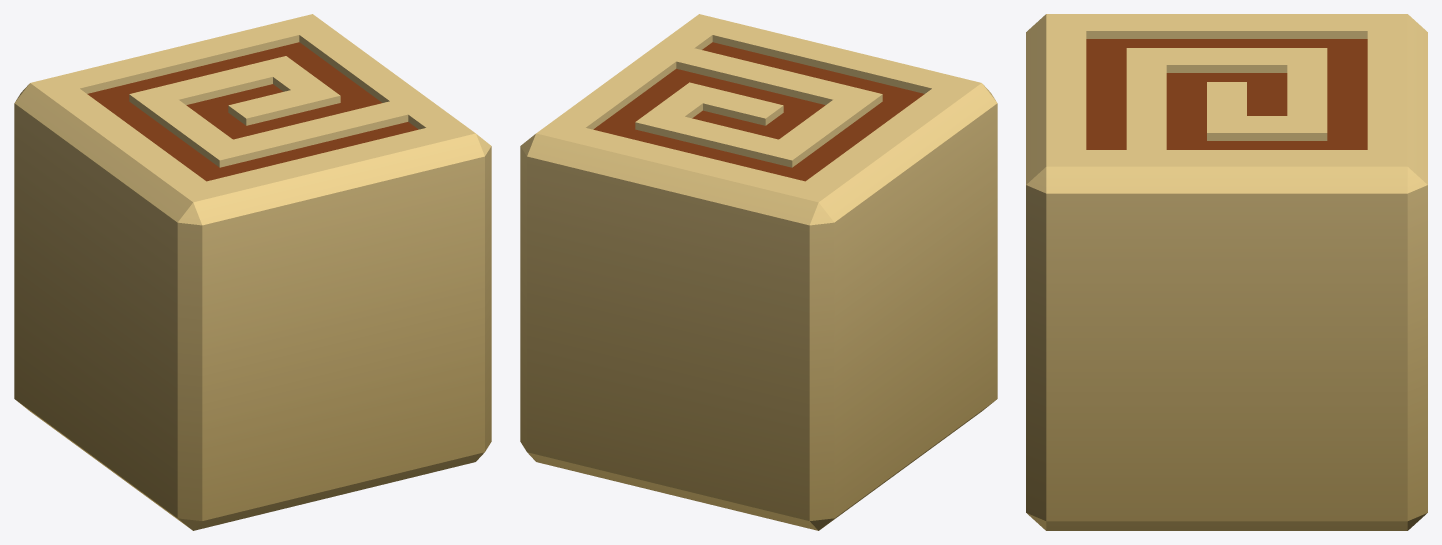
The model's file is Tile_Snake_Tail_White.fbx.
The picture shows the model from 3 angles, left to right: view 1: azimuth 30°, elevation 25°; view 2: azimuth 150°, elevation 25°; view 3: azimuth 270°, elevation 25°; orthographic projection. The views are drawn at different scales.
Parts seen in each view (by area): view 1: Tile Buntut Putih; view 2: Tile Buntut Putih; view 3: Tile Buntut Putih.
Boxes of the visible parts, x1,y1,x2,y2 form: Tile Buntut Putih: (14, 14, 491, 530); Tile Buntut Putih: (520, 14, 997, 530); Tile Buntut Putih: (1026, 14, 1427, 530).
Size of the model in its own units: 1 by 1 by 1.
Materials: 1 (1 with a texture image).
